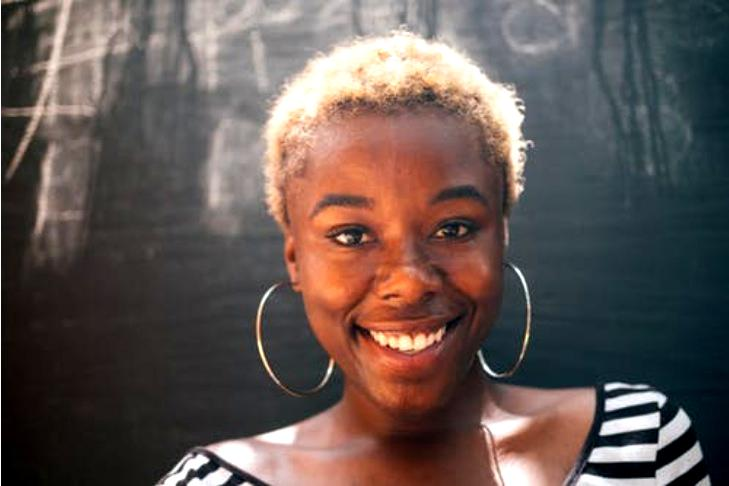face: (294, 110, 502, 403)
